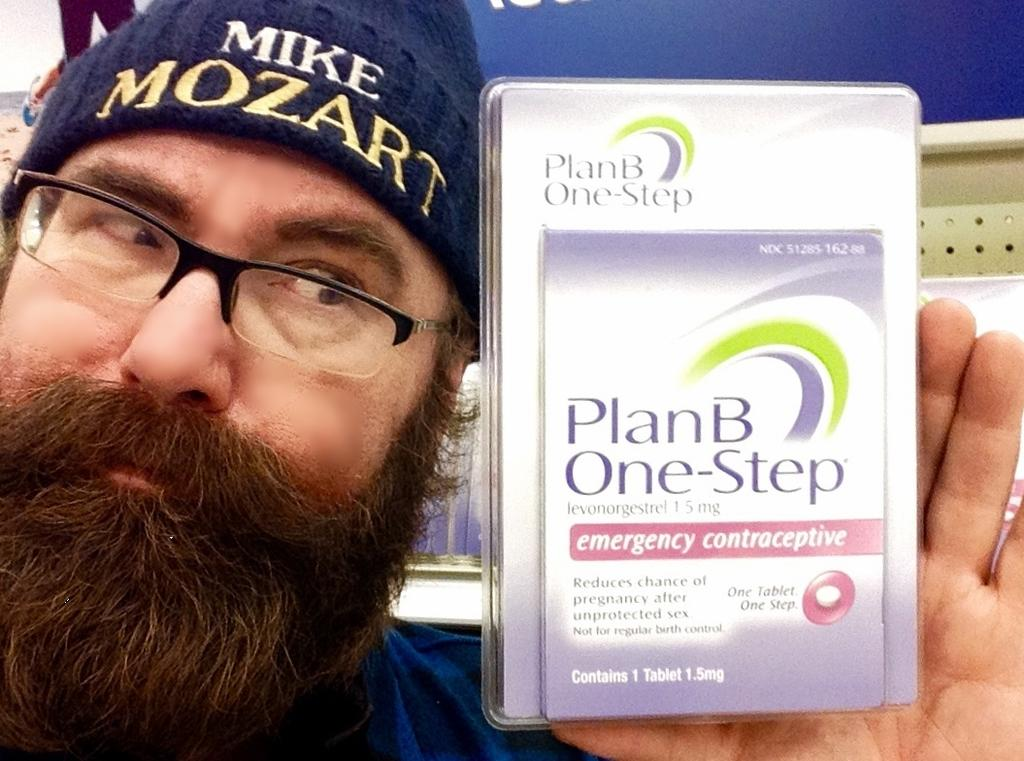Sem Máscara: (0, 129, 447, 530)
